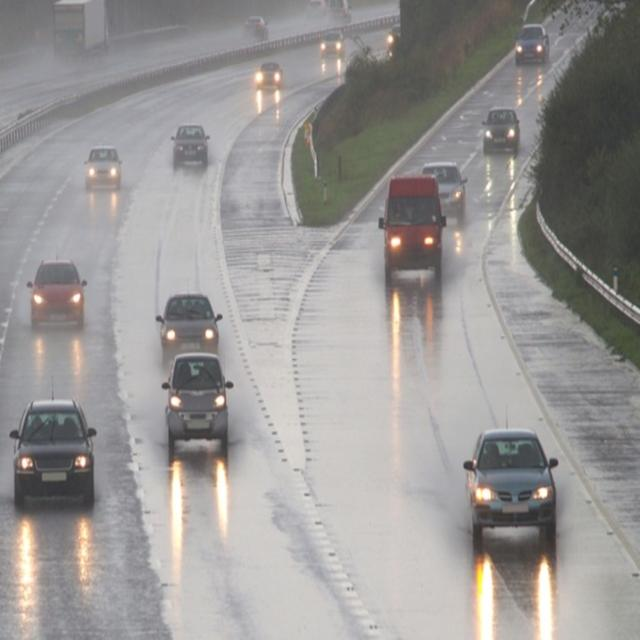car: (465, 427, 557, 546), (12, 398, 98, 510), (163, 352, 230, 452), (380, 176, 442, 275), (27, 259, 87, 330), (160, 294, 220, 361), (424, 160, 464, 218), (482, 107, 520, 156), (83, 146, 123, 192), (170, 124, 210, 169), (514, 24, 549, 66), (254, 59, 282, 89), (240, 15, 270, 40), (319, 32, 345, 59), (386, 22, 400, 47)
